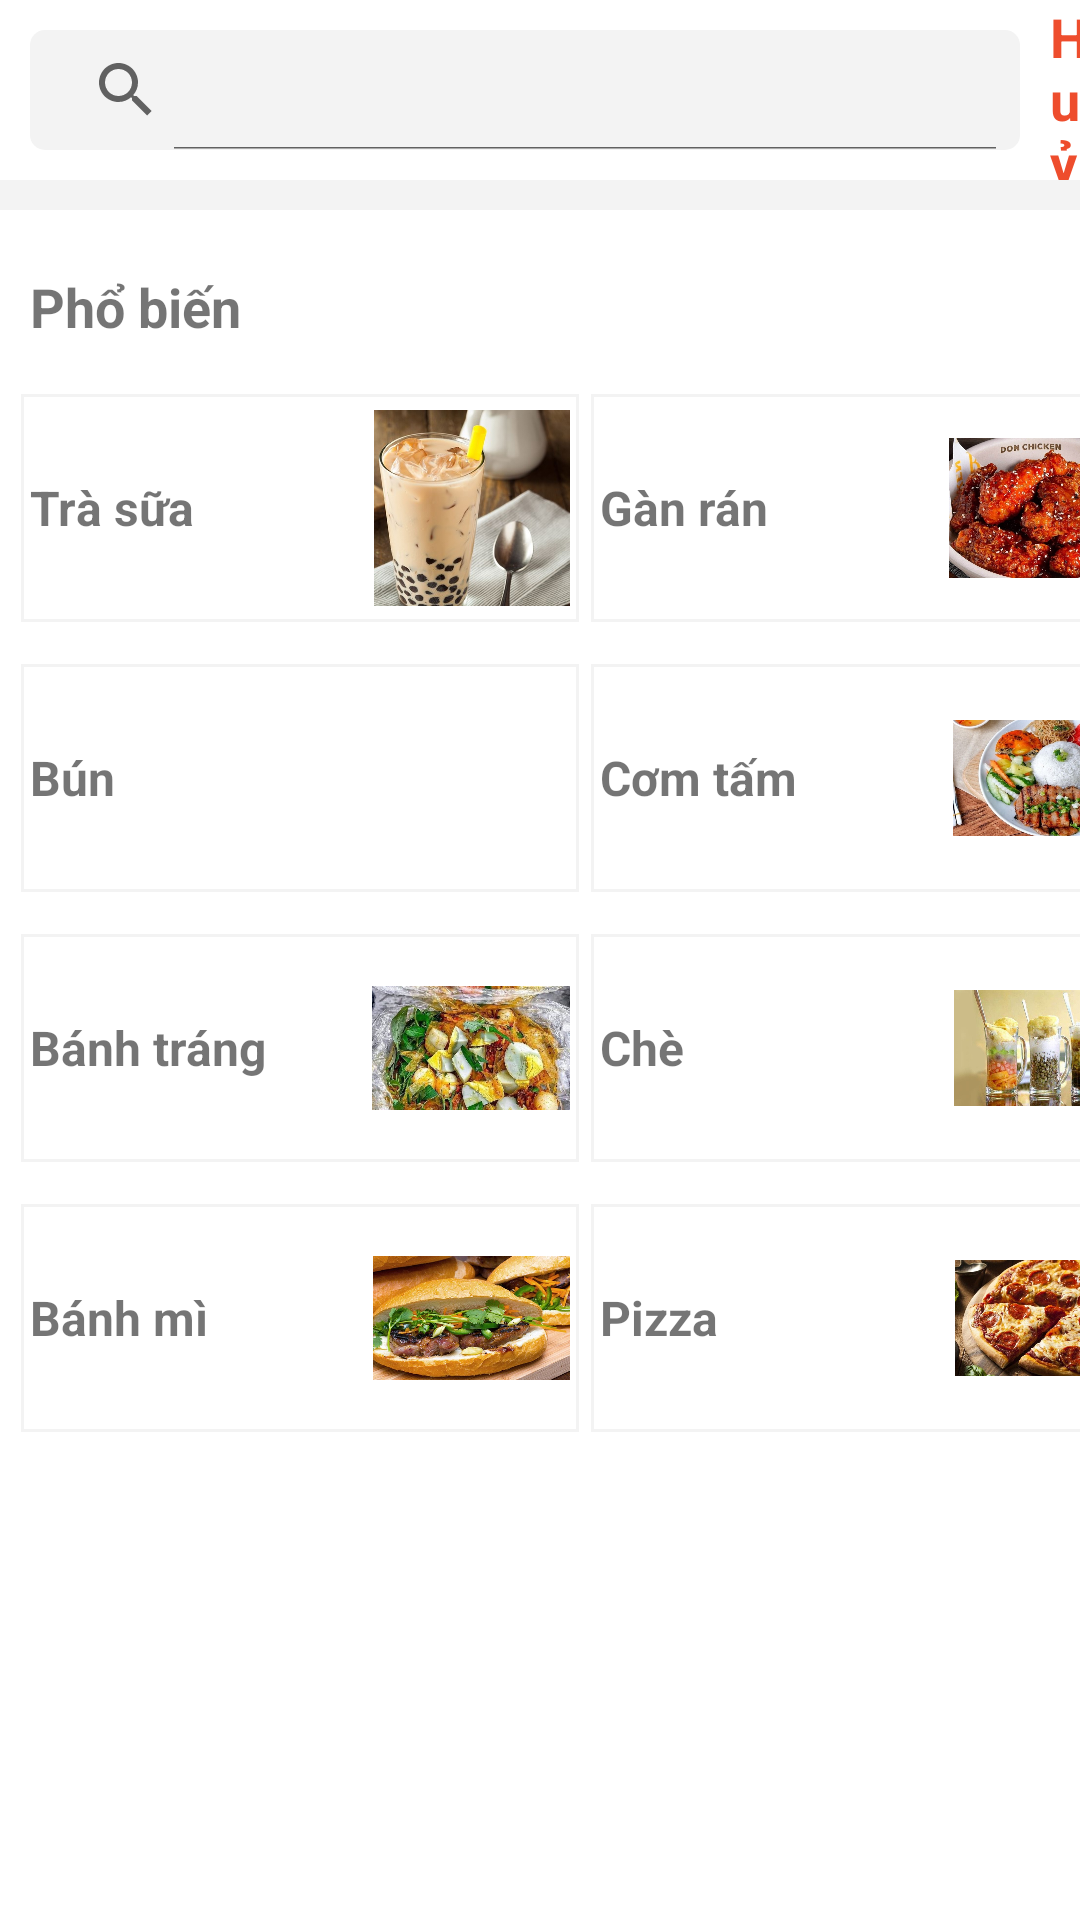

Icon bounding boxes for this 1080*1920 phone screenshot, format (x1, y1, x2, y2):
bakery: (373, 1256, 570, 1380)
banhtrang: (372, 986, 570, 1110)
milktea: (374, 410, 570, 606)
